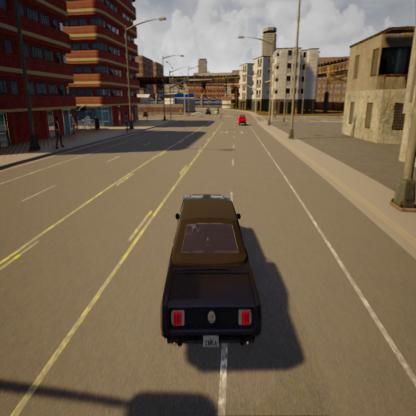Cars: (158, 185, 266, 351), (234, 108, 248, 126)
Pedestrian: (51, 111, 65, 154), (122, 106, 130, 134)
